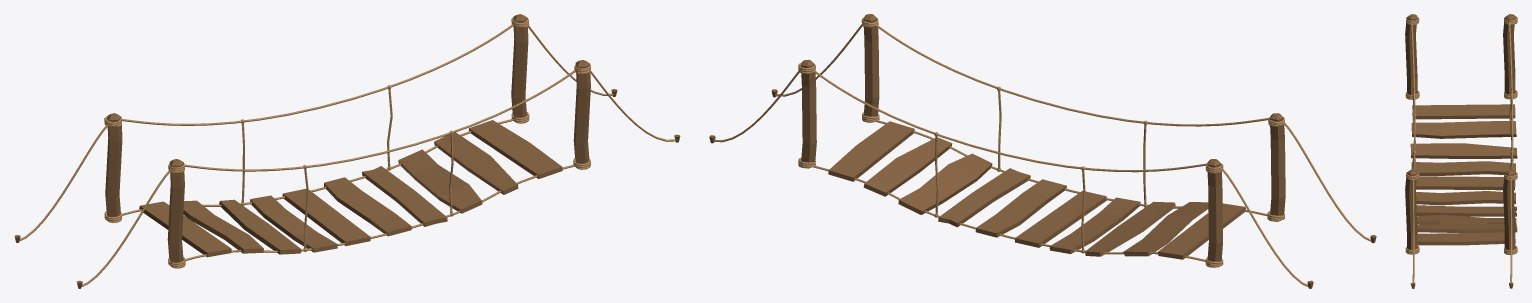
File: Bridge.fbx
The picture shows the model from 3 angles, left to right: view 1: azimuth 30°, elevation 25°; view 2: azimuth 150°, elevation 25°; view 3: azimuth 270°, elevation 25°; orthographic projection. The views are drawn at different scales.
Visible parts, largest first — view 1: Bridge_01, Poles, Plank_2, Plank_0, Plank_4, Plank_1, Plank_5, Plank_3, Plank_6, Plank_7, Plank_8, Plank_9; view 2: Bridge_01, Poles, Plank_2, Plank_0, Plank_4, Plank_1, Plank_5, Plank_3, Plank_6, Plank_8, Plank_7, Plank_9; view 3: Poles, Bridge_01, Plank_8, Plank_7, Plank_9, Plank_6, Plank_5, Plank_4, Plank_0, Plank_3, Plank_1, Plank_2.
Part boxes in pixels (x1,y1,x2,y2): Bridge_01: (14, 17, 680, 288); Poles: (105, 14, 590, 262); Plank_2: (398, 149, 482, 213); Plank_0: (469, 120, 562, 178); Plank_4: (324, 177, 411, 236); Plank_1: (434, 132, 518, 194); Plank_5: (282, 188, 370, 245); Plank_3: (362, 166, 447, 226); Plank_6: (250, 195, 337, 252); Plank_7: (219, 199, 301, 254); Plank_8: (183, 200, 263, 253); Plank_9: (139, 201, 231, 257); Bridge_01: (709, 17, 1376, 288); Poles: (801, 14, 1285, 267); Plank_2: (898, 153, 992, 214); Plank_0: (828, 121, 914, 181); Plank_4: (975, 179, 1066, 237); Plank_1: (863, 137, 952, 196); Plank_5: (1015, 190, 1106, 247); Plank_3: (938, 168, 1030, 227); Plank_6: (1049, 197, 1140, 253); Plank_8: (1123, 202, 1208, 256); Plank_7: (1085, 201, 1175, 256); Plank_9: (1158, 203, 1245, 259); Poles: (1405, 14, 1515, 250); Bridge_01: (1405, 16, 1517, 288); Plank_8: (1411, 121, 1516, 138); Plank_7: (1410, 143, 1517, 158); Plank_9: (1412, 104, 1515, 119); Plank_6: (1411, 161, 1515, 175); Plank_5: (1416, 176, 1515, 190); Plank_4: (1416, 191, 1515, 205); Plank_0: (1417, 232, 1515, 245); Plank_3: (1416, 205, 1516, 216); Plank_1: (1417, 224, 1517, 232); Plank_2: (1417, 214, 1516, 224).
Bounding box in the file's own units: 1484 × 301 × 306.
